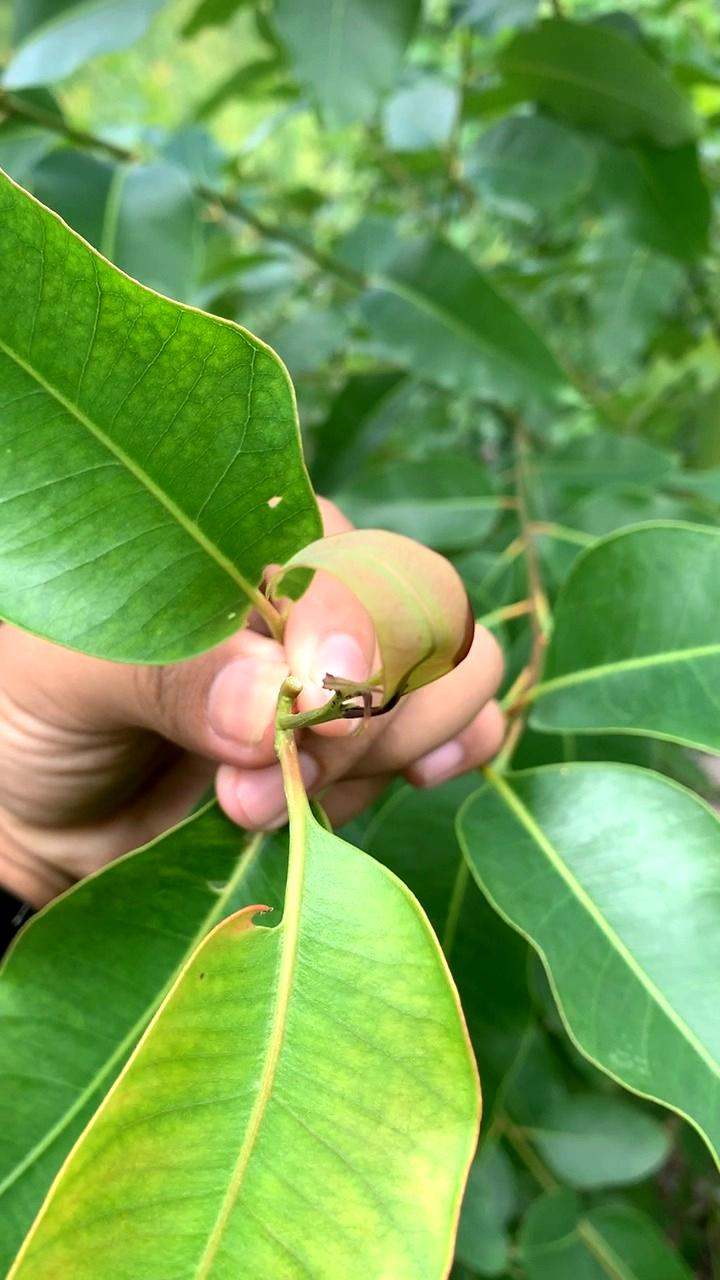Helopeltis-Withered Sprout: (268, 518, 479, 723)
